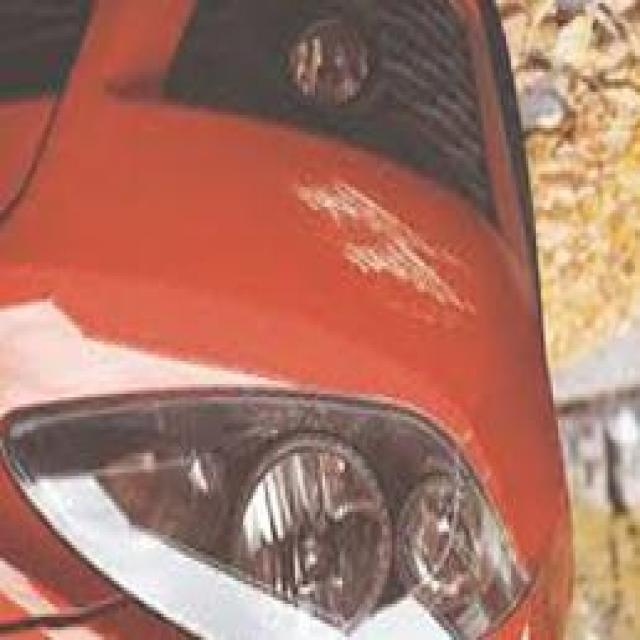scratch: (279, 149, 495, 343)
